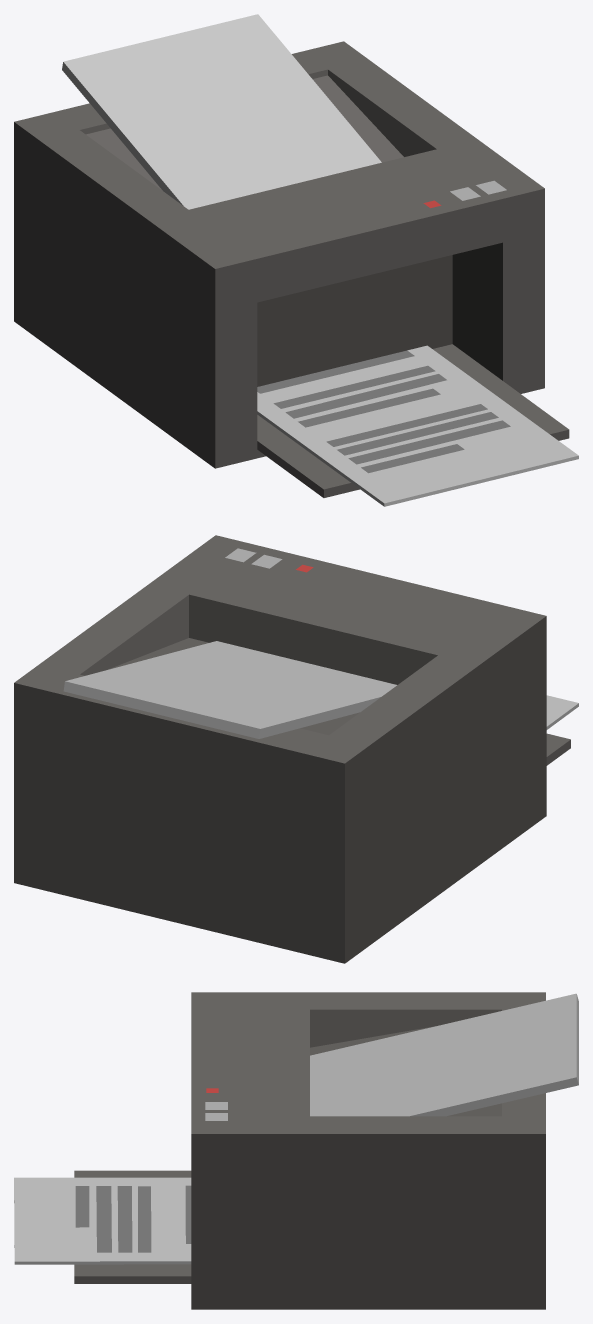
File: SO_Printer.fbx
3 views of the same model, one above another, from view 1: azimuth 30°, elevation 25°; view 2: azimuth 150°, elevation 25°; view 3: azimuth 270°, elevation 25° (orthographic). The views are drawn at different scales.
Parts seen in each view (by area): view 1: SO_Printer; view 2: SO_Printer; view 3: SO_Printer.
Boxes of the visible parts, bbox=[...] form: SO_Printer: bbox=[14, 14, 578, 506]; SO_Printer: bbox=[14, 535, 578, 963]; SO_Printer: bbox=[14, 992, 578, 1309].
Bounding box in the file's own units: 0.8071 × 0.5392 × 1.36.
